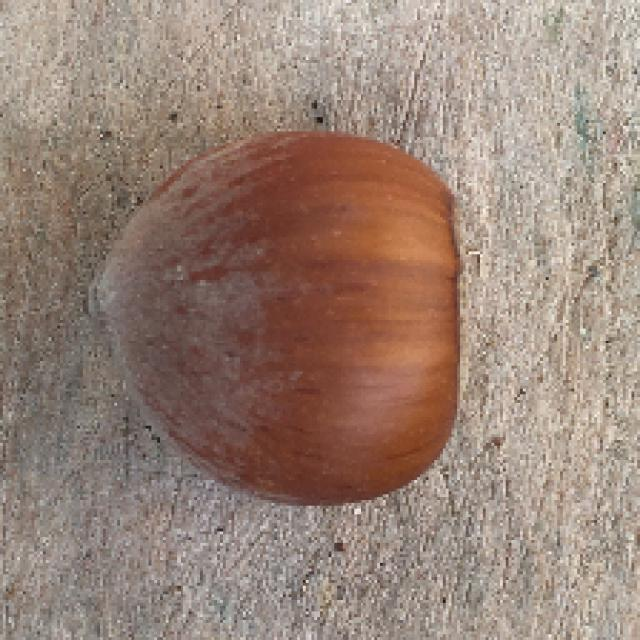QualityHazelnut: (82, 130, 477, 505)
